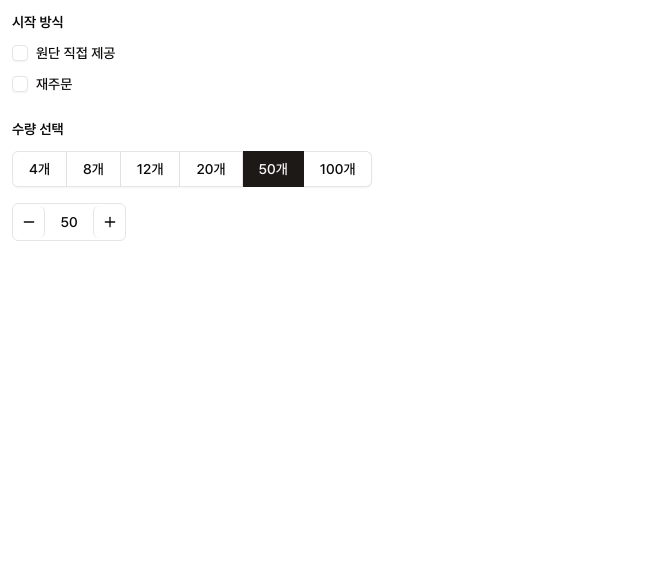
it: custom order steps › 수량이 100개 이상이면 견적 요청 담당자 연락처 입력란을 렌더링하고 안내 토스트를 띄운다
This screenshot has width=669, height=581.
Click the button "100개" at (338, 168), box [304,150,372,186]
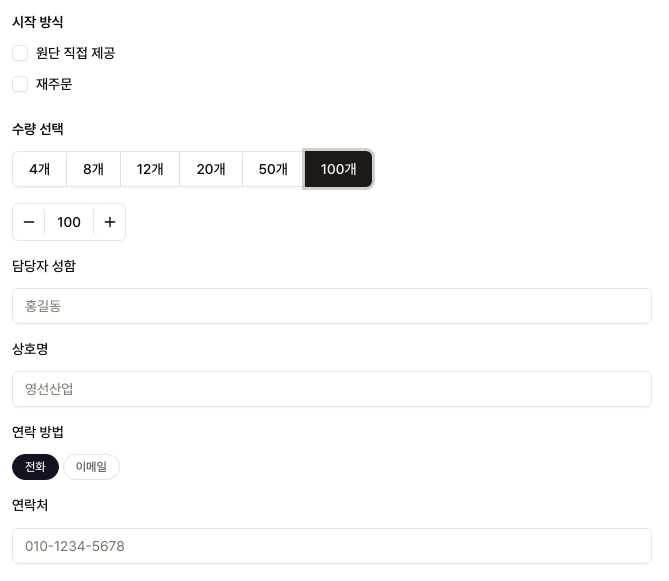
Check: the field labelled "담당자 성함" is shown, box [12,288,652,324]
Check: the field labelled "상호명" is shown, box [12,371,652,407]
Check: the radio button labelled "이메일" is shown, box [63,454,120,480]
